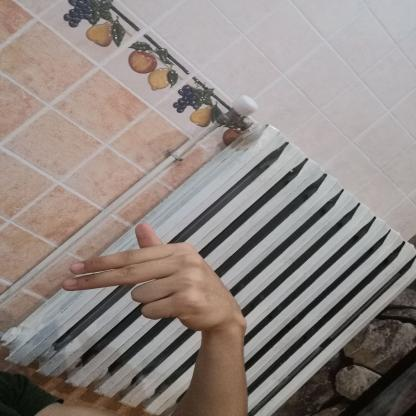GHAYN: (54, 215, 252, 338)
